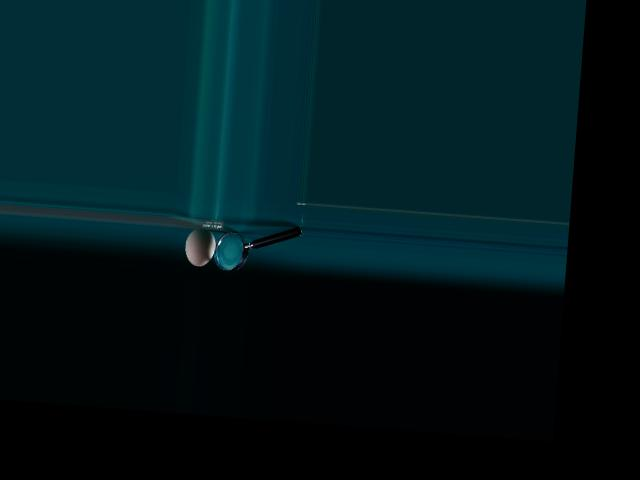egg: (183, 226, 216, 267)
